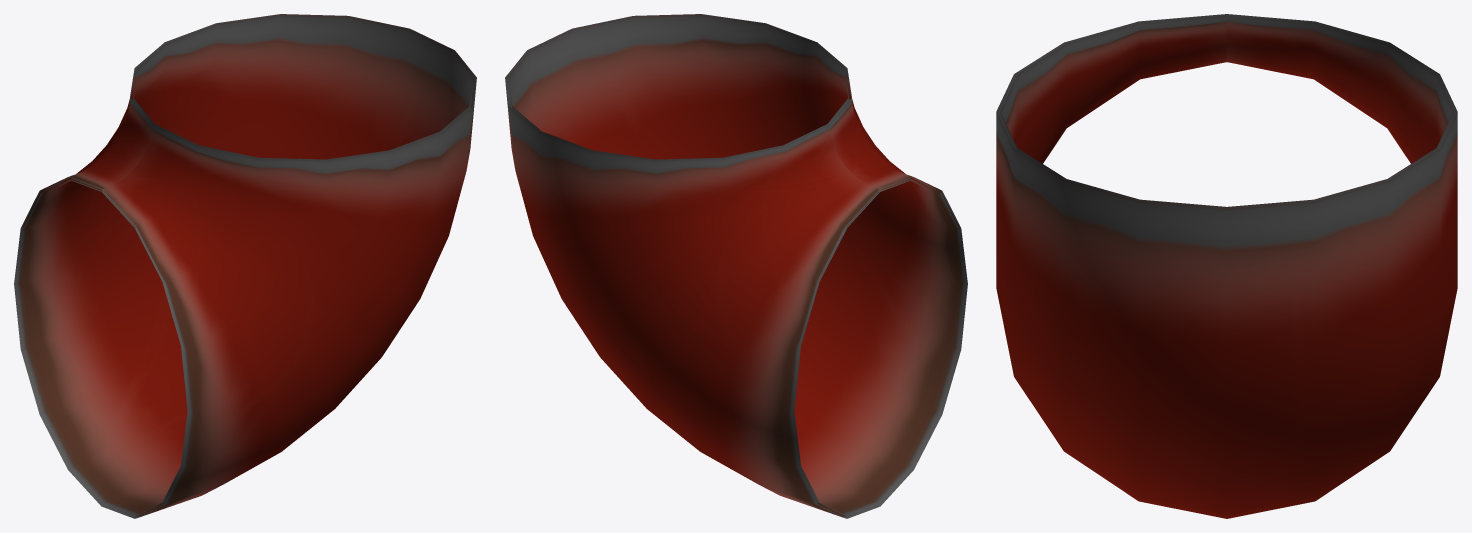
The model's file is pipe01_crn_8b_hollow.fbx.
3 views of the same model, side by side, from view 1: azimuth 30°, elevation 25°; view 2: azimuth 150°, elevation 25°; view 3: azimuth 270°, elevation 25° (orthographic). The views are drawn at different scales.
Parts seen in each view (by area): view 1: pipe01_crn_8b_hollow; view 2: pipe01_crn_8b_hollow; view 3: pipe01_crn_8b_hollow.
Part boxes in pixels (x1,y1,x2,y2): pipe01_crn_8b_hollow: (14, 14, 476, 518); pipe01_crn_8b_hollow: (505, 14, 967, 518); pipe01_crn_8b_hollow: (996, 14, 1457, 518).
Size of the model in its own units: 14.01 by 14.01 by 12.
